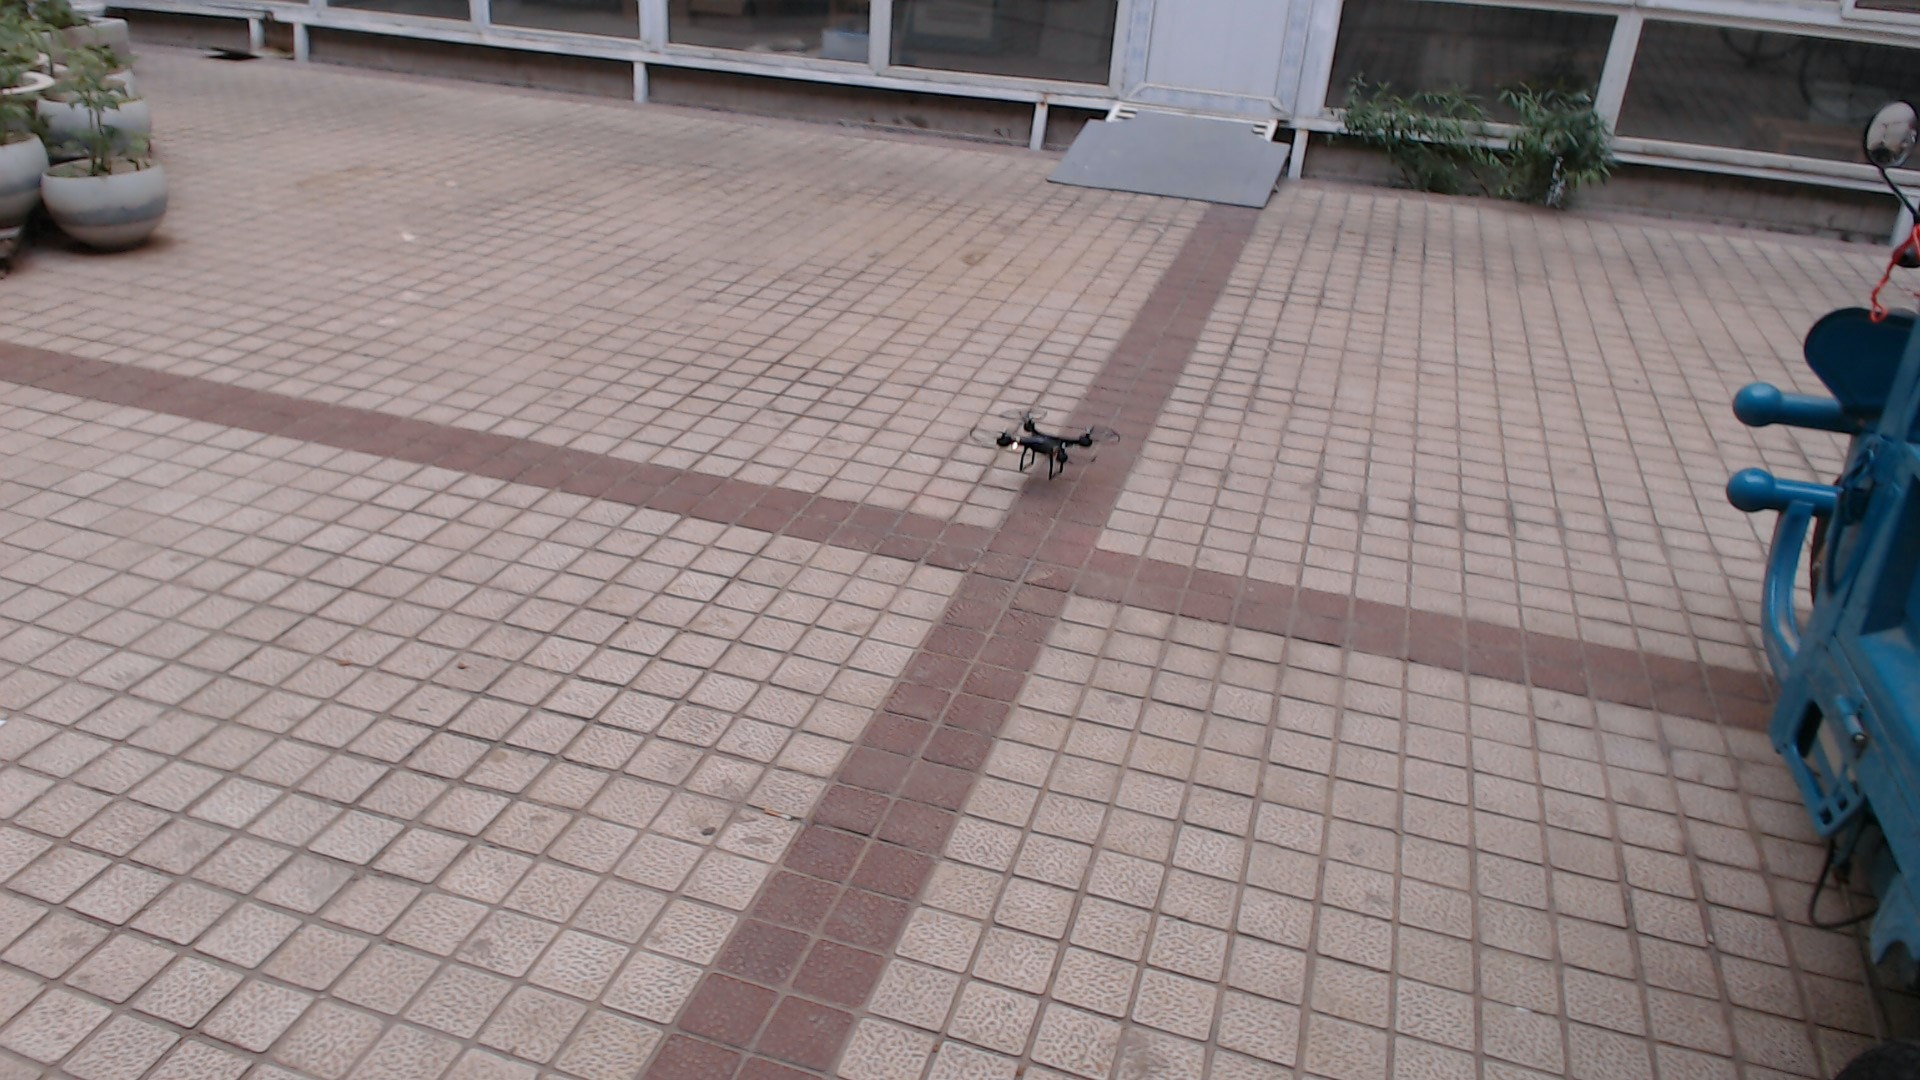drone: (959, 373, 1164, 502)
